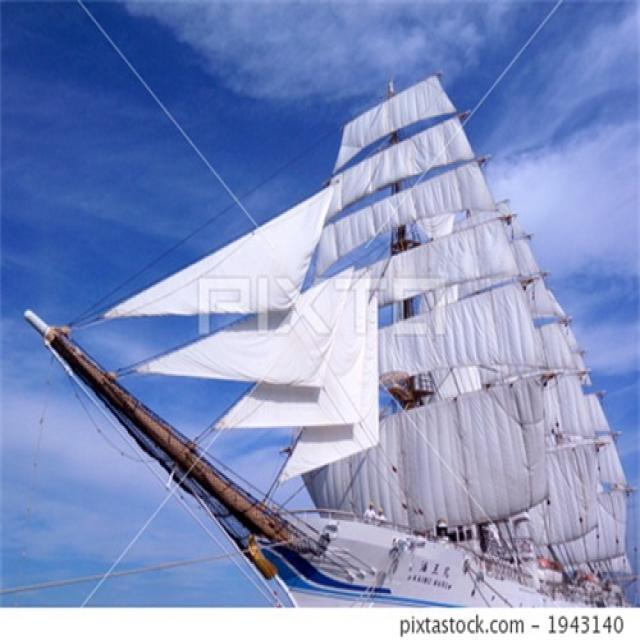Ship: (54, 82, 639, 611)
